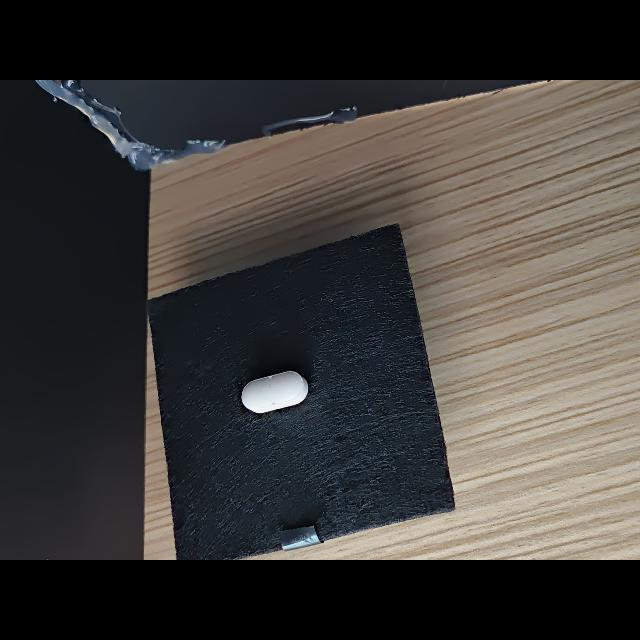Intact Pill: (241, 371, 308, 413)
